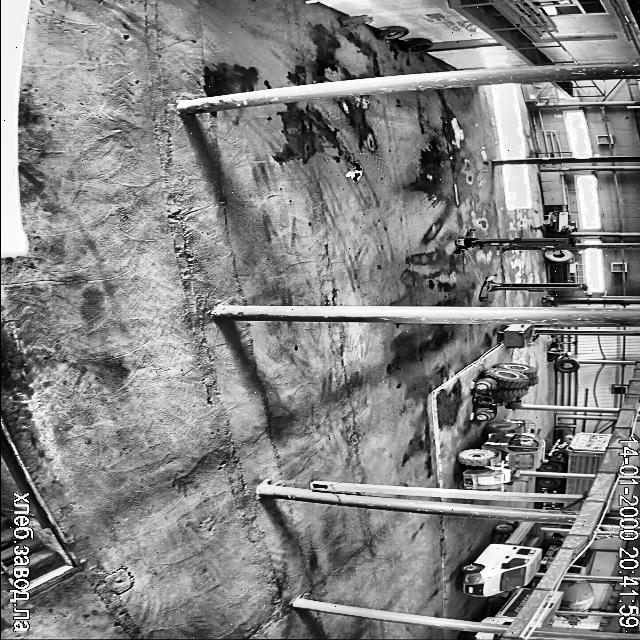class6: (459, 419, 546, 489), (474, 362, 538, 420)
class7: (460, 521, 540, 596), (540, 432, 612, 472), (482, 588, 532, 624), (558, 580, 594, 610), (538, 477, 592, 494), (538, 592, 562, 628), (540, 538, 562, 572), (567, 548, 595, 574), (462, 632, 500, 640), (543, 500, 563, 508), (572, 504, 580, 510), (570, 616, 580, 620)
tractor: (340, 16, 372, 24)
truck: (455, 229, 574, 252), (479, 275, 588, 300)
